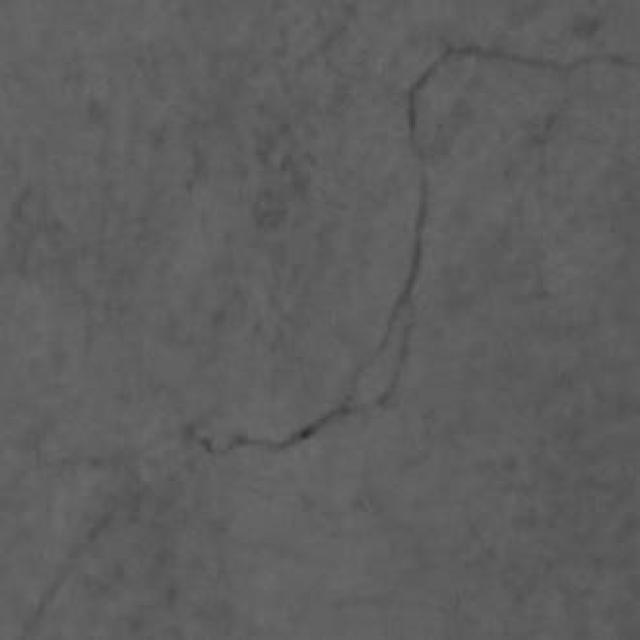crack: (192, 43, 639, 457), (18, 511, 114, 639)
